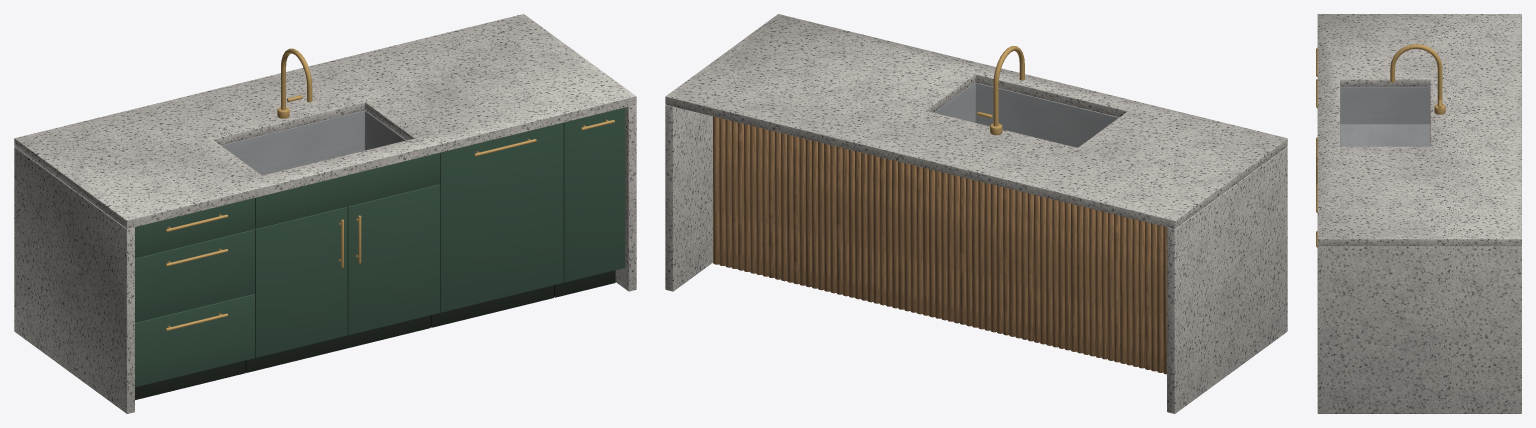
Rendered from kitchen-island.glb.
The picture shows the model from 3 angles, left to right: view 1: azimuth 30°, elevation 25°; view 2: azimuth 150°, elevation 25°; view 3: azimuth 270°, elevation 25°; orthographic projection. The views are drawn at different scales.
Visible parts, largest first — view 1: kitchen-island; view 2: kitchen-island; view 3: kitchen-island.
Part boxes in pixels (x1,y1,x2,y2): kitchen-island: [14, 14, 636, 413]; kitchen-island: [665, 14, 1287, 413]; kitchen-island: [1316, 14, 1521, 413].
Size of the model in its own units: 2.48 by 1.25 by 0.9575.
8 materials, 3 textured.
